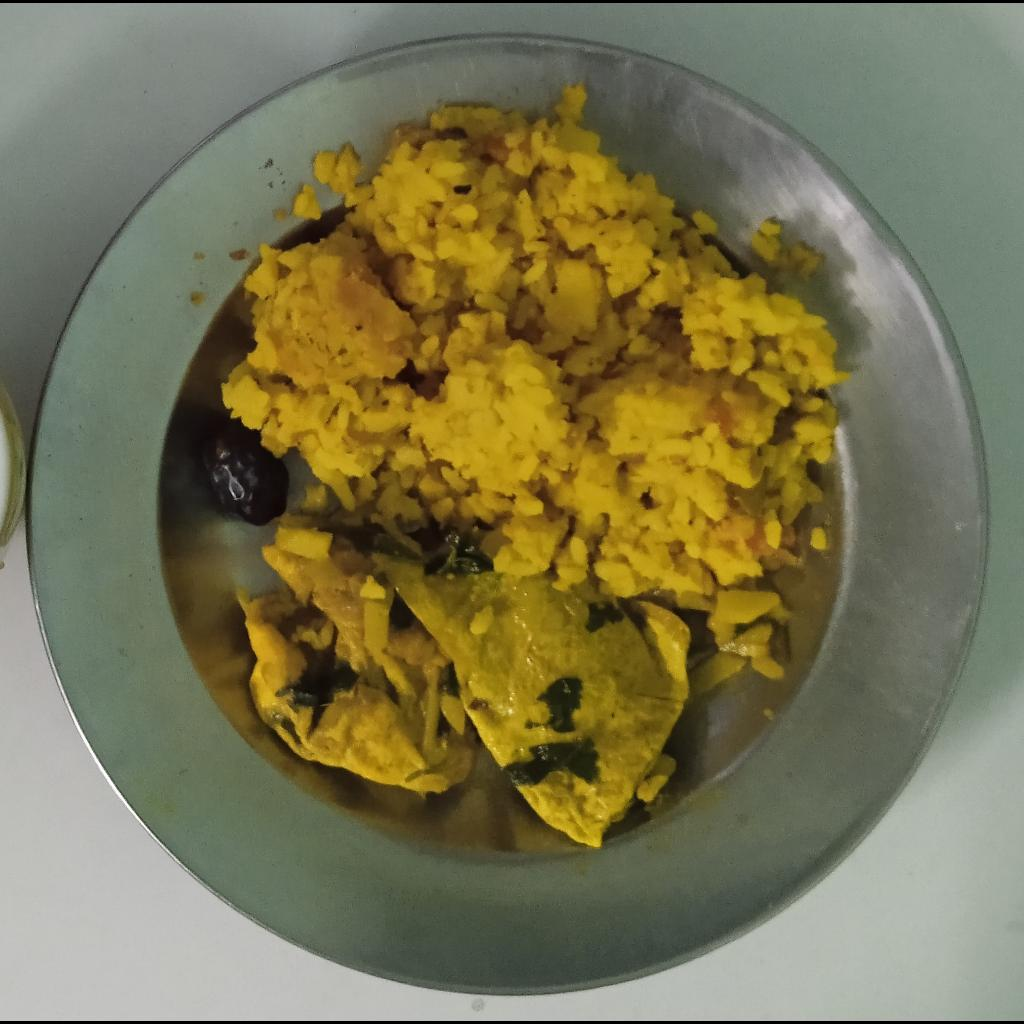dates: (200, 419, 287, 526)
egg-poached: (232, 527, 691, 849)
khichuri: (223, 80, 848, 600)
